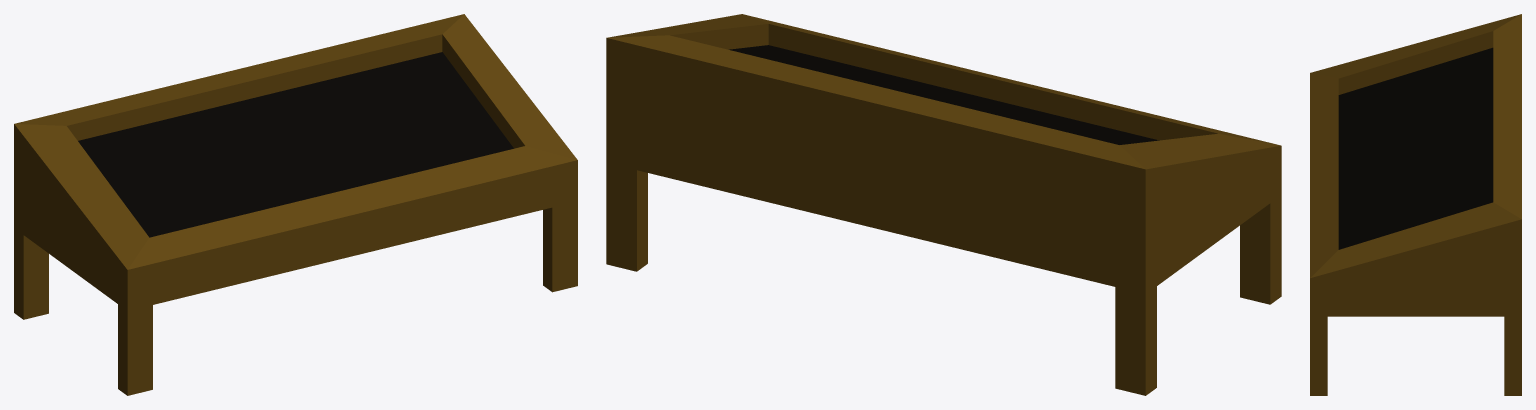
File: marketStall.fbx
3 renders of one model, left to right at view 1: azimuth 30°, elevation 25°; view 2: azimuth 150°, elevation 25°; view 3: azimuth 270°, elevation 25°, orthographic. The views are drawn at different scales.
Parts seen in each view (by area): view 1: MarketStall; view 2: MarketStall; view 3: MarketStall.
Boxes of the visible parts, left/top/right/bottom form: MarketStall: left=14, top=14, right=577, bottom=395; MarketStall: left=606, top=14, right=1281, bottom=395; MarketStall: left=1310, top=14, right=1521, bottom=395.
Bounding box in the file's own units: 422 × 170 × 184.
